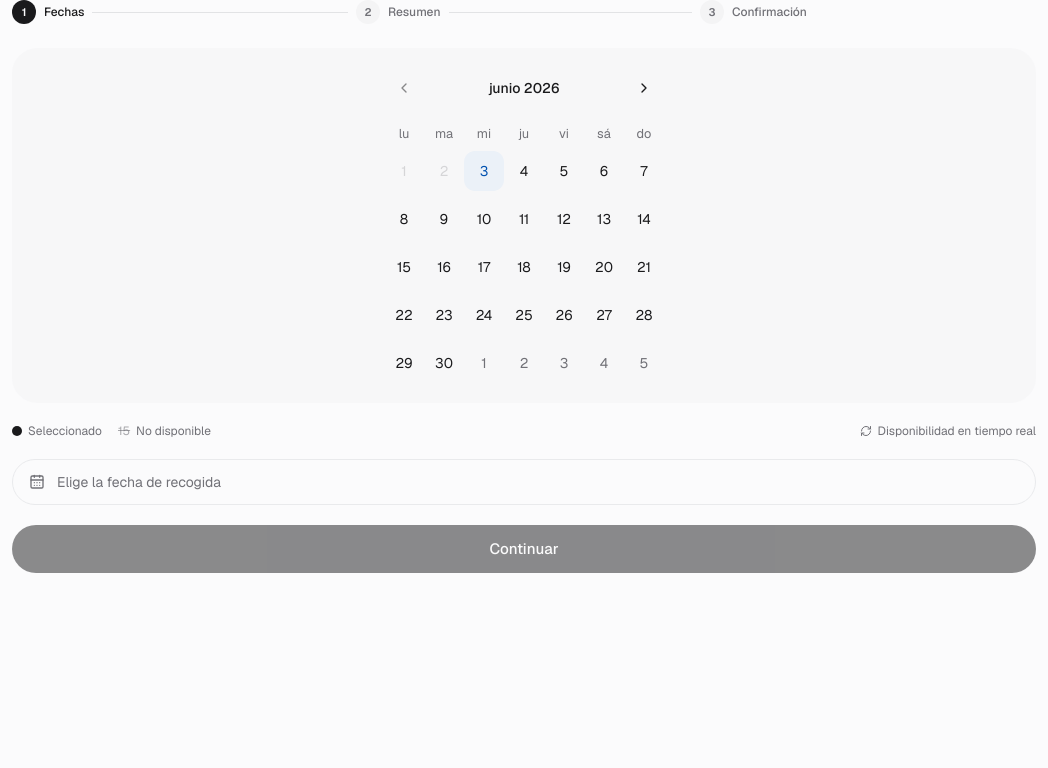
Test: rental flow › keeps Continuar disabled without dates; one click is a same-day (1 día) rental
The image size is (1048, 768).
Expected: the button "Continuar" is disabled, [12, 525, 1036, 573]
Click the button "10" at coordinates (484, 219), box [464, 199, 504, 239]
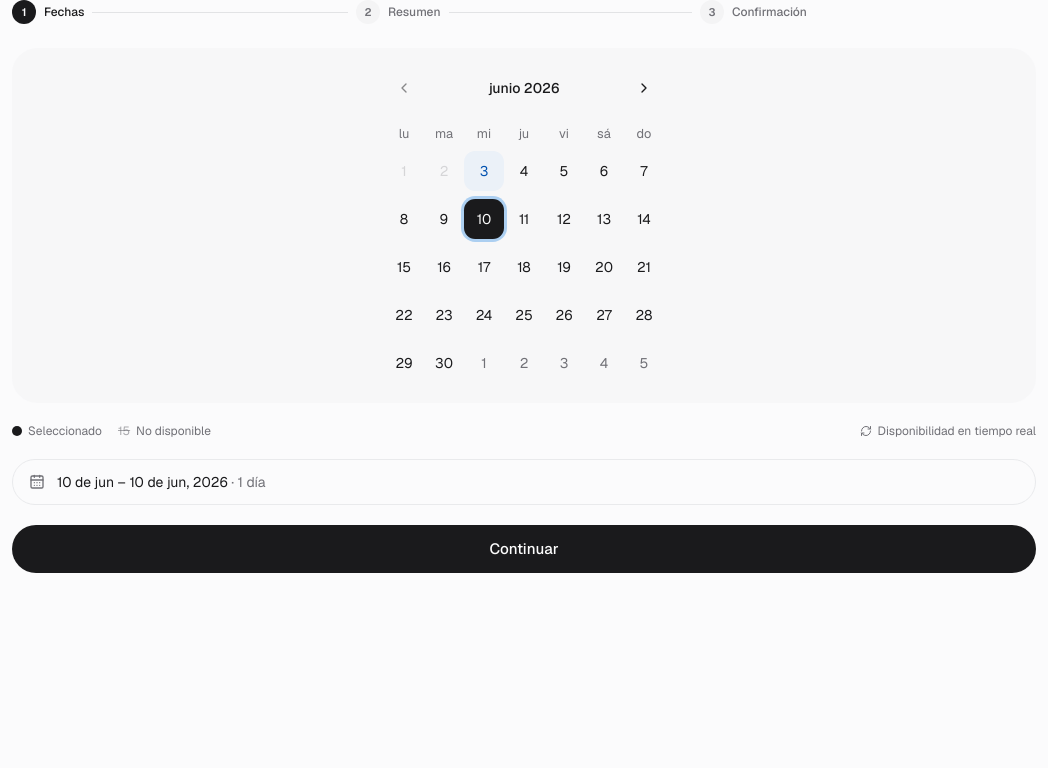
Now the text "· 1 día" is shown, box [228, 473, 266, 491]
Now the button "Continuar" is enabled, box [12, 525, 1036, 573]
Click the button "10" at coordinates (484, 219), box [464, 199, 504, 239]
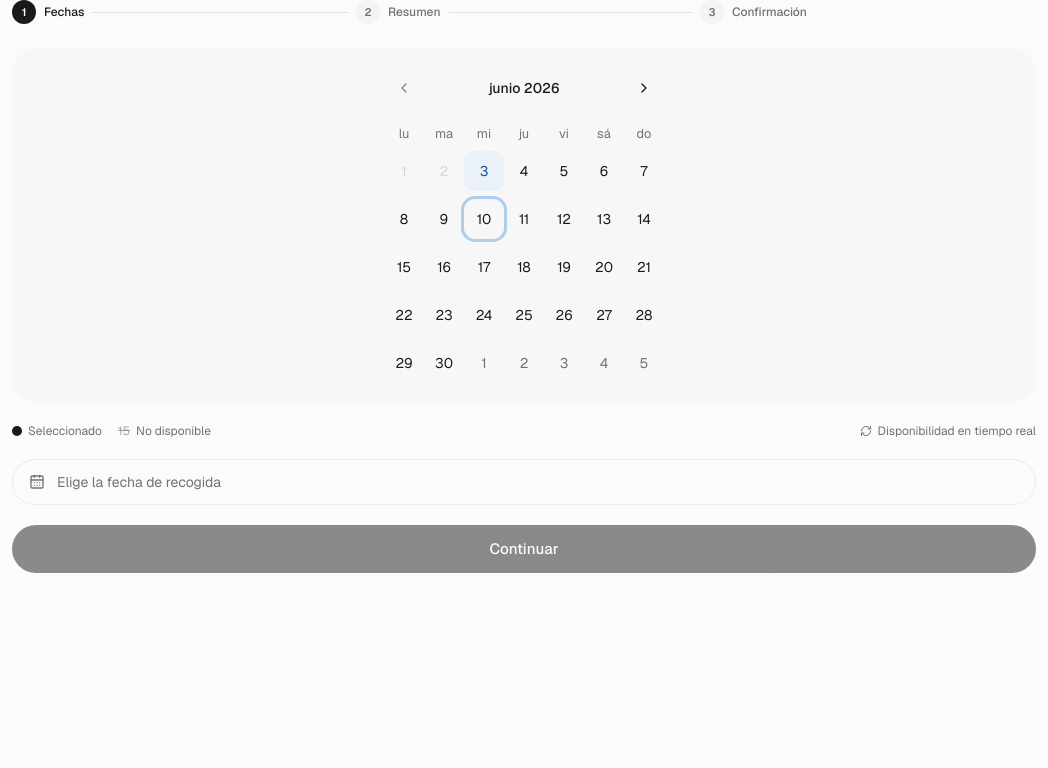
Now the text "Elige la fecha de recogida" is shown, box [57, 472, 221, 492]
Now the button "Continuar" is disabled, box [12, 525, 1036, 573]
